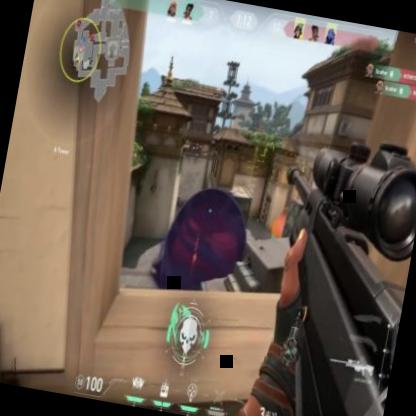enemy: (173, 189, 182, 206)
enemy_head: (178, 192, 180, 194)
